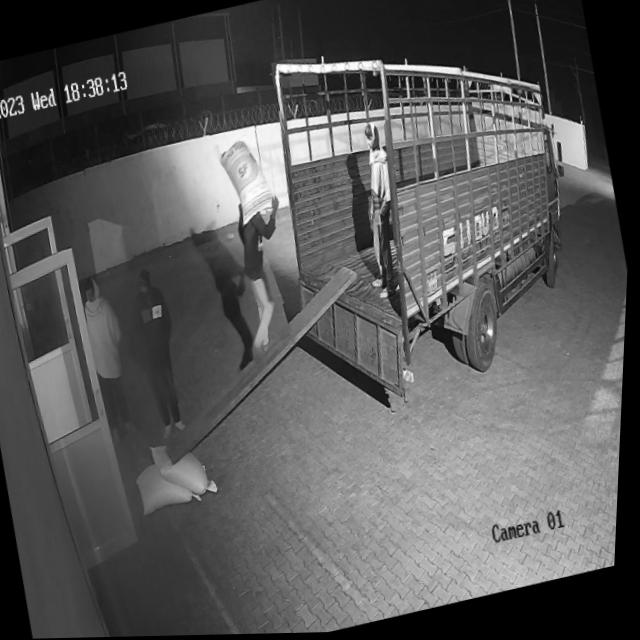sack: (215, 135, 281, 231), (150, 431, 224, 506), (136, 456, 205, 517)
